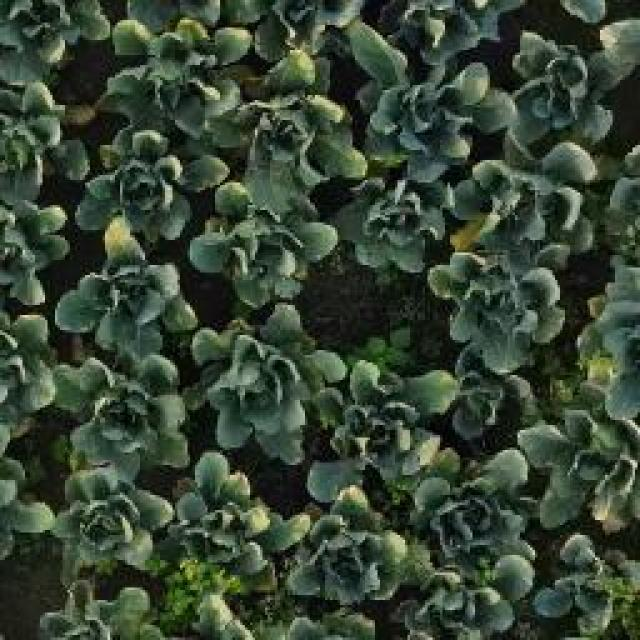cabbage: (304, 351, 453, 503), (352, 41, 521, 170), (190, 167, 341, 306), (428, 236, 575, 377), (190, 310, 336, 446), (219, 49, 359, 186), (442, 136, 607, 251), (104, 2, 249, 123), (405, 448, 540, 572), (177, 450, 294, 593), (56, 358, 193, 480), (56, 241, 190, 359), (286, 488, 417, 608), (509, 19, 627, 143), (80, 132, 210, 240), (52, 464, 171, 574), (406, 549, 539, 640), (343, 173, 448, 270), (0, 0, 113, 82), (0, 81, 69, 203), (438, 362, 518, 443)
